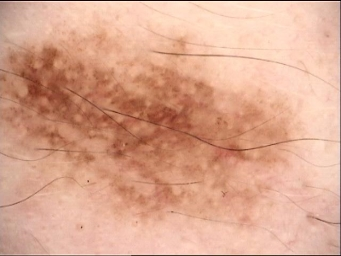nevus: (1, 43, 269, 217)
